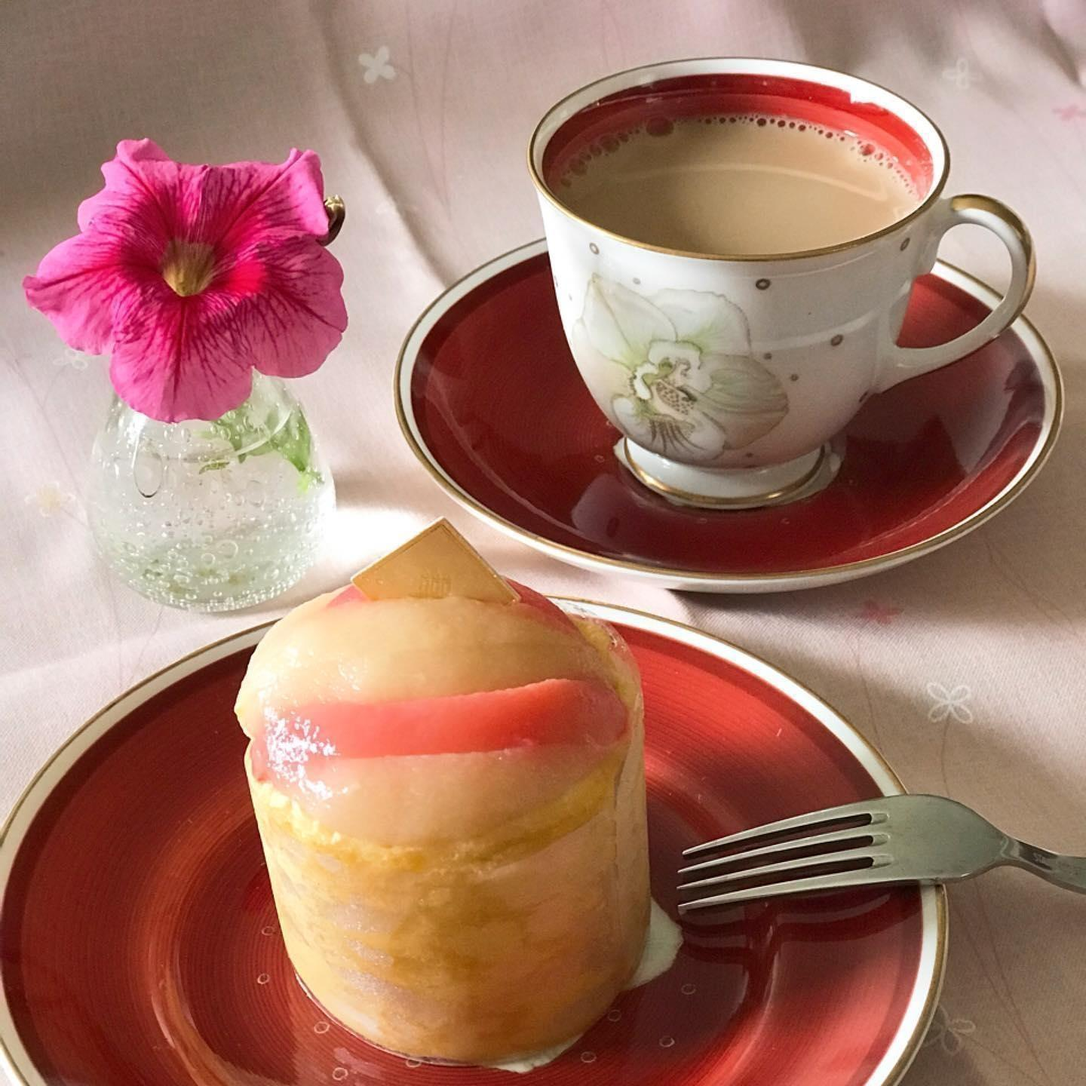cup-handle: (519, 44, 1045, 520)
